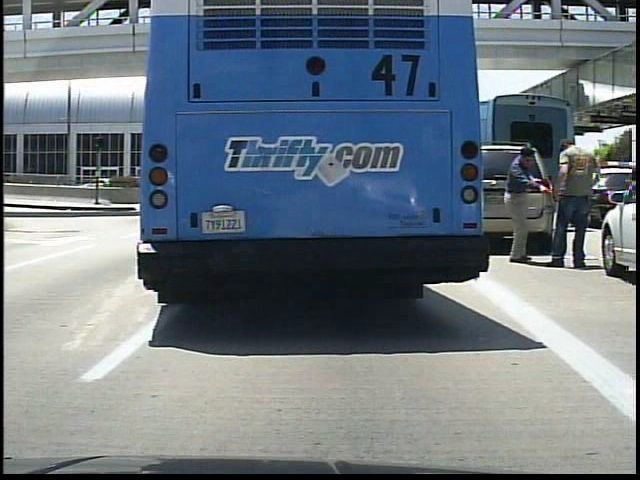person: (545, 124, 597, 278), (500, 134, 549, 268)
